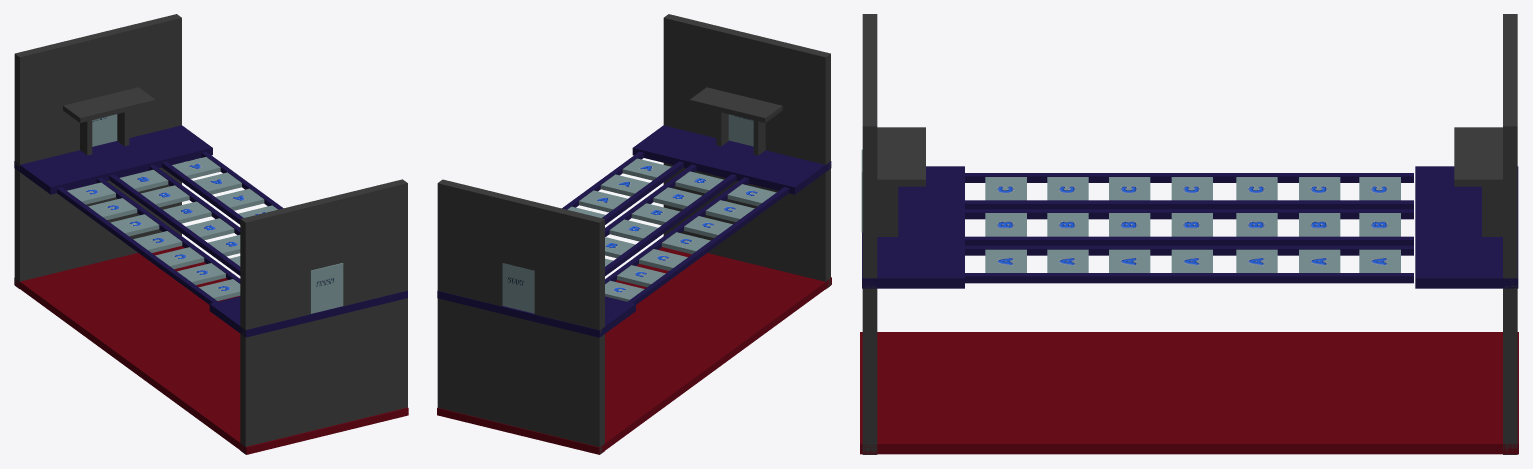
File: level2.fbx
The picture shows the model from 3 angles, left to right: view 1: azimuth 30°, elevation 25°; view 2: azimuth 150°, elevation 25°; view 3: azimuth 270°, elevation 25°; orthographic projection. The views are drawn at different scales.
Parts seen in each view (by area): view 1: FinishWall, StartWall, Ground, Start, BridgeC, Finish, BridgeB, FinishDoor, BridgeA, StartDoor, 5C, 2C (+13 smaller); view 2: StartWall, FinishWall, Ground, Finish, BridgeC, Start, BridgeB, StartDoor, BridgeA, FinishDoor, 4C, 6C (+13 smaller); view 3: Ground, FinishWall, StartWall, Start, Finish, BridgeA, BridgeB, BridgeC, 1A, 1B, 1C, 2B (+17 smaller).
Boxes of the visible parts, box(x1,y1,x2,y2) form: FinishWall: box(240, 179, 407, 454); StartWall: box(14, 14, 181, 288); Ground: box(14, 246, 408, 454); Start: box(14, 125, 212, 194); BridgeC: box(57, 177, 240, 304); Finish: box(209, 290, 407, 337); BridgeB: box(109, 164, 240, 275); FinishDoor: box(310, 263, 343, 313); BridgeA: box(162, 152, 283, 224); StartDoor: box(92, 114, 117, 146); 5C: box(155, 247, 204, 269); 2C: box(88, 198, 137, 219); StartWall: box(437, 179, 604, 454); FinishWall: box(663, 14, 830, 289); Ground: box(437, 247, 831, 454); Finish: box(632, 125, 831, 194); BridgeC: box(605, 177, 789, 304); Start: box(437, 291, 635, 337); BridgeB: box(605, 164, 736, 276); StartDoor: box(502, 263, 534, 313); BridgeA: box(562, 151, 683, 224); FinishDoor: box(728, 114, 753, 146); 4C: box(661, 232, 710, 254); 6C: box(705, 200, 754, 221); Ground: box(860, 332, 1518, 454); FinishWall: box(862, 14, 925, 454); StartWall: box(1454, 14, 1517, 454); Start: box(1415, 166, 1518, 288); Finish: box(862, 166, 964, 288); BridgeA: box(965, 245, 1413, 283); BridgeB: box(965, 209, 1413, 245); BridgeC: box(965, 173, 1413, 209); 1A: box(1359, 249, 1400, 272); 1B: box(1359, 213, 1400, 236); 1C: box(1359, 177, 1400, 200); 2B: box(1299, 213, 1340, 236).
Size of the model in its own units: 4002 by 5470 by 9932.
Materials: 31 (23 with a texture image).
